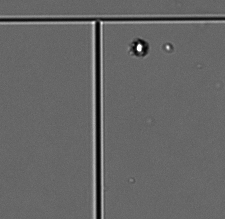Living Cell: (129, 37, 150, 57)
